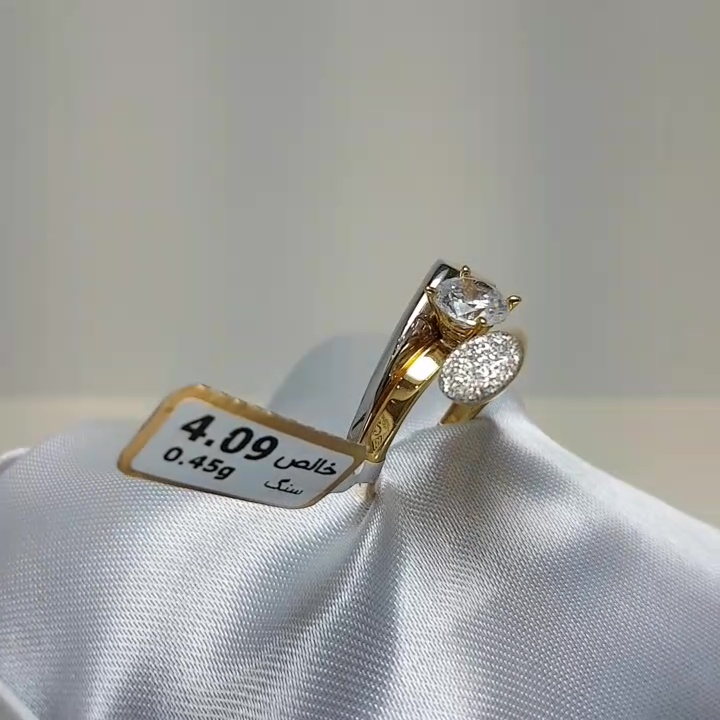Ring 7: (326, 247, 555, 495)
